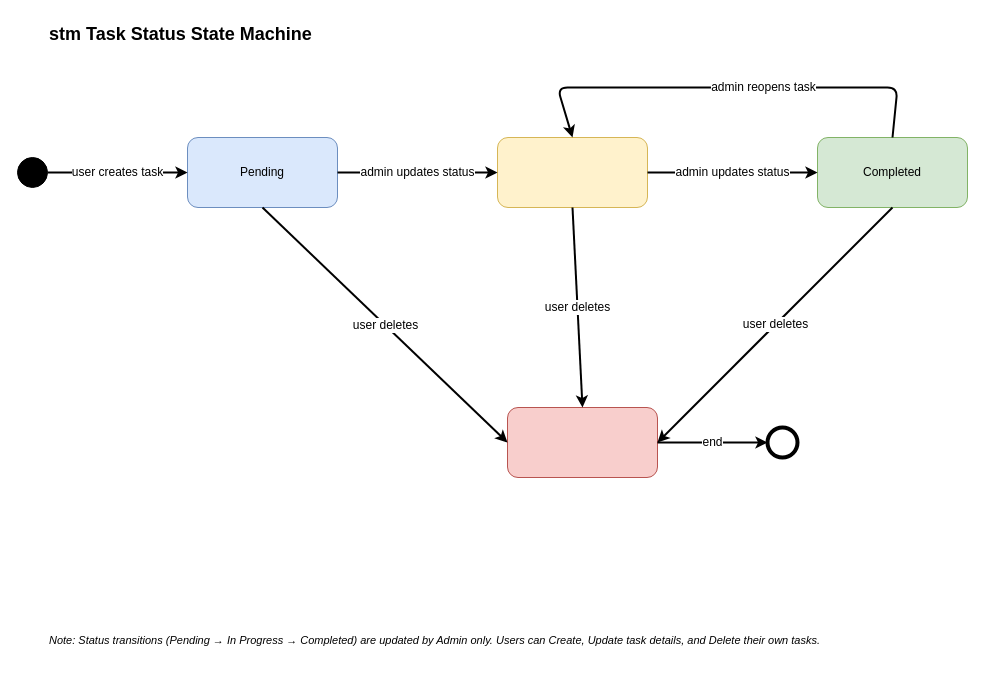
The diagram is 985 pixels wide and 684 high, and some of its shapes have lost their labels. The centre of each missing label's shape, as x and y in pixels:
Deleted: (582,442)
In Progress: (572,172)
